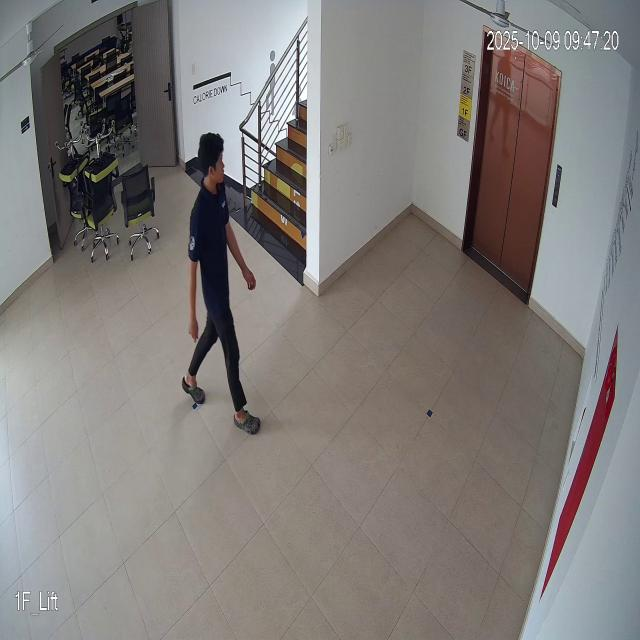face: (193, 124, 229, 192)
